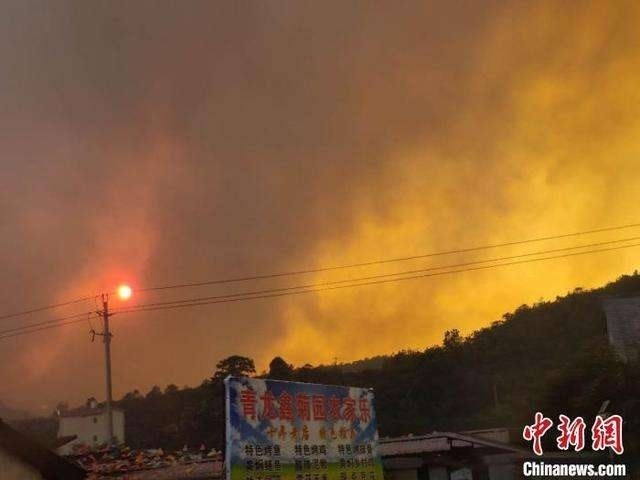fire: (266, 216, 628, 366)
